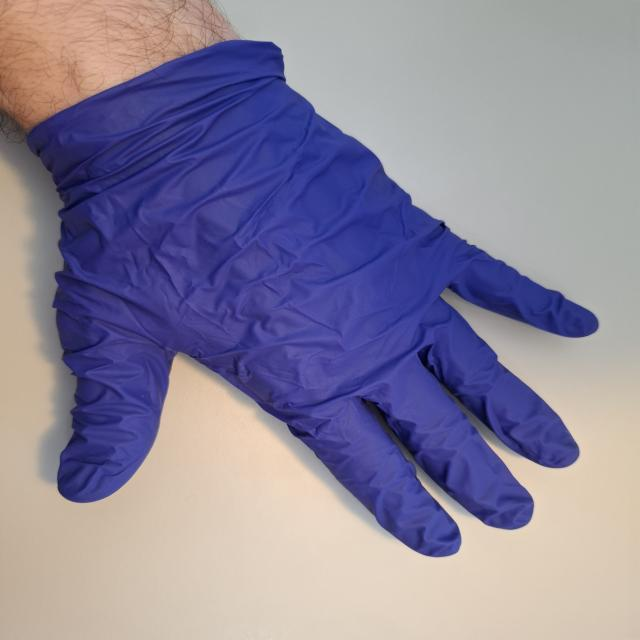glove_on: (33, 40, 604, 561)
